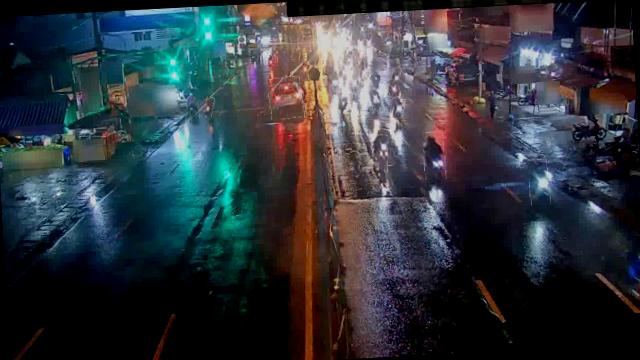Bike: (422, 132, 446, 180), (528, 158, 550, 204), (370, 134, 388, 173), (369, 88, 383, 114), (330, 94, 348, 114), (388, 98, 404, 118), (386, 78, 401, 98), (369, 70, 381, 88), (204, 96, 214, 116), (392, 68, 402, 80)
Car: (268, 75, 304, 120)
